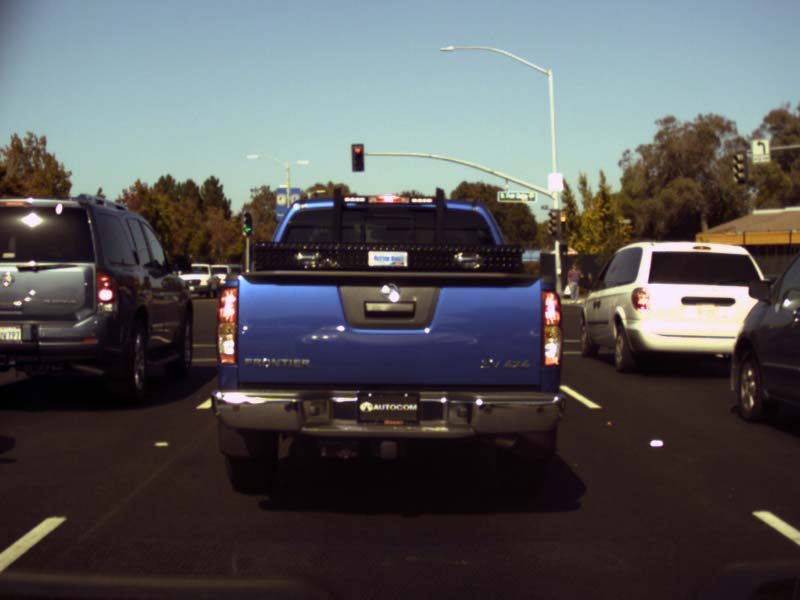Green: (242, 211, 252, 235)
Red: (559, 215, 566, 232)
Yellow: (350, 143, 364, 171)
